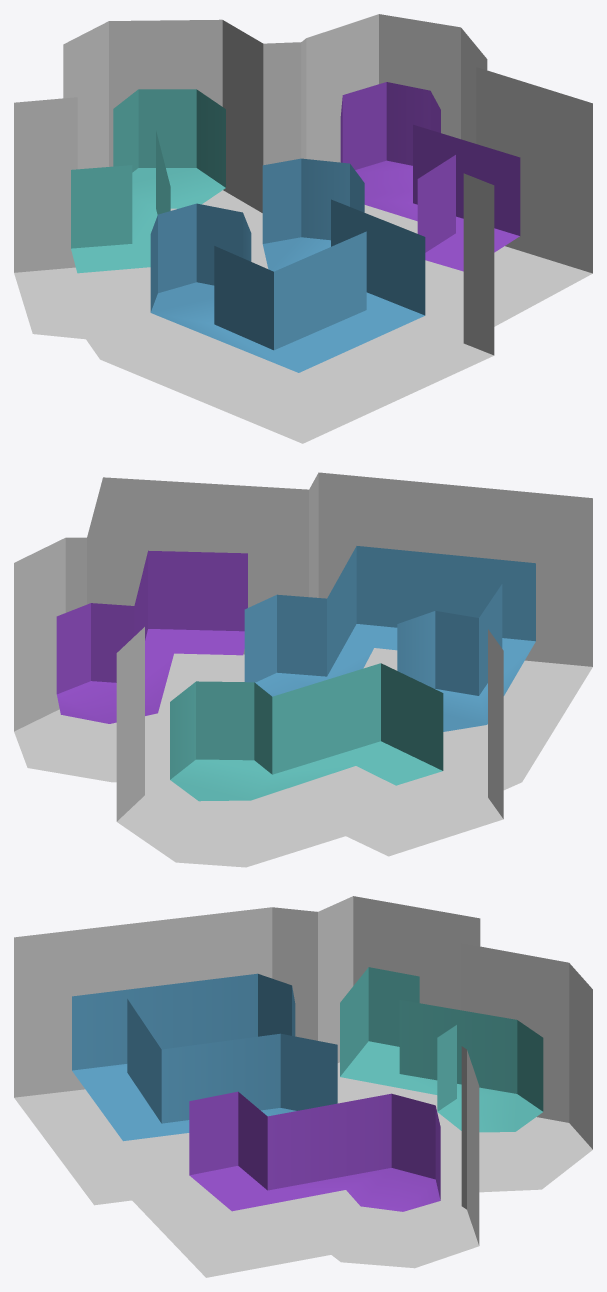
Rendered from DisneyFrozenMusicNotes_3.glb.
3 renders of one model, top to bottom at view 1: azimuth 30°, elevation 25°; view 2: azimuth 150°, elevation 25°; view 3: azimuth 270°, elevation 25°, orthographic. The views are drawn at different scales.
Parts seen in each view (by area): view 1: DisneyFrozenMusicNotes; view 2: DisneyFrozenMusicNotes; view 3: DisneyFrozenMusicNotes.
Part boxes in pixels (x1,y1,x2,y2): DisneyFrozenMusicNotes: (14,14,592,443); DisneyFrozenMusicNotes: (14,472,592,867); DisneyFrozenMusicNotes: (14,896,592,1277).
Size of the model in its own units: 0.1668 by 0.0563 by 0.1842.
